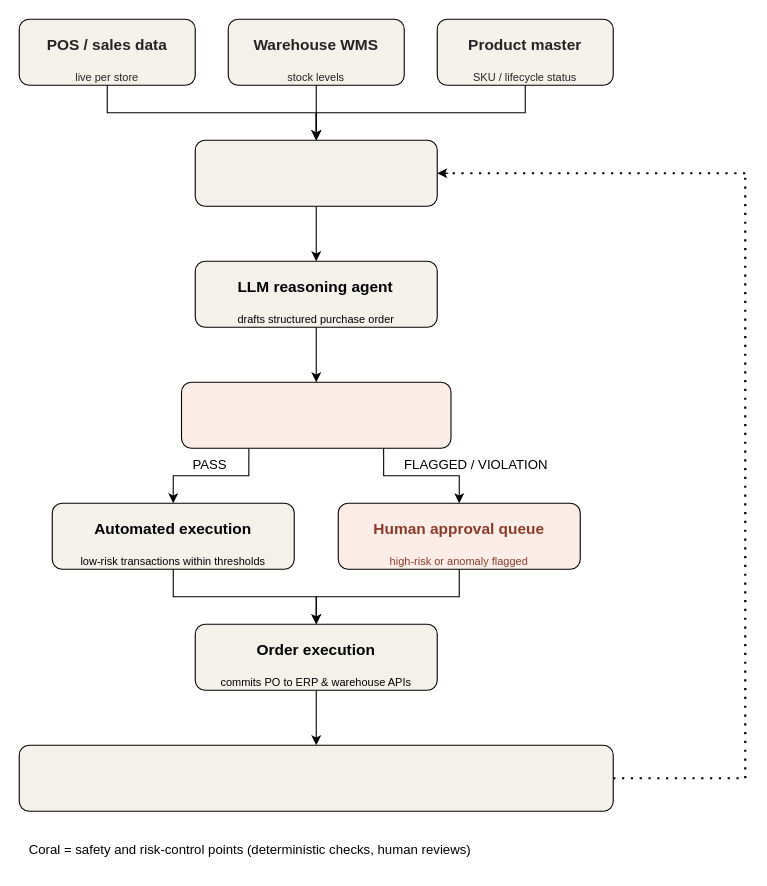
The diagram is 767 pixels wide and 886 high, and some of its shapes have lost their labels. The centre of each missing label's shape, as x and y in pixels:
Context builder (RAG) injects verified, live data payloads: point (315, 172)
Guardrail validator schema validation, business rules, anomaly detection: point (315, 414)
Observability and feedback loop logging, tracing, evals, drift monitoring: point (315, 777)
